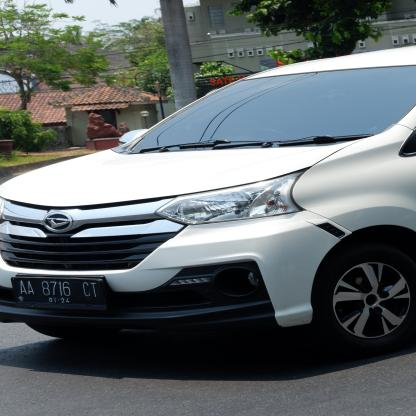Plat-Nomor: (10, 271, 113, 308)
